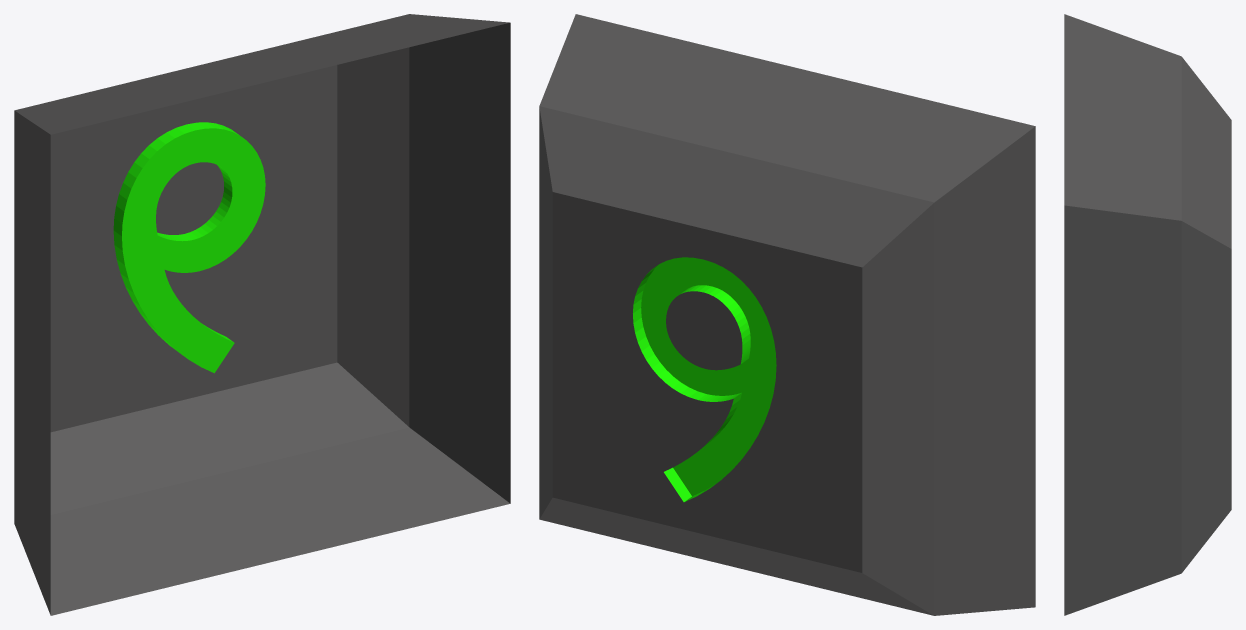
3 renders of one model, left to right at view 1: azimuth 30°, elevation 25°; view 2: azimuth 150°, elevation 25°; view 3: azimuth 270°, elevation 25°, orthographic. The views are drawn at different scales.
Visible parts, largest first — view 1: key 2.011; view 2: key 2.011; view 3: key 2.011.
Part boxes in pixels (x1=…): key 2.011: x1=14, y1=14, x2=510, y2=615; key 2.011: x1=539, y1=14, x2=1035, y2=615; key 2.011: x1=1064, y1=14, x2=1231, y2=615.
Size of the model in its own units: 4.81 by 4.81 by 1.78.
